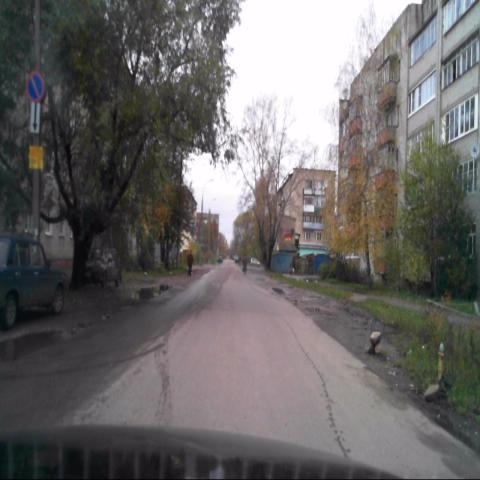3_28: (25, 69, 46, 102)
